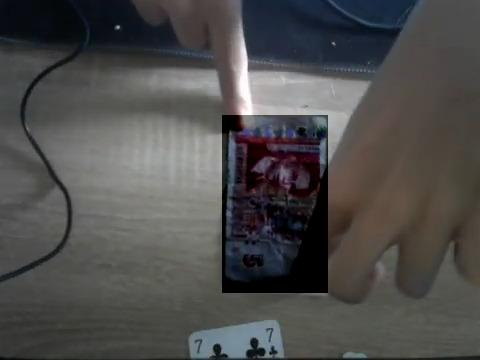5leva: (222, 115, 328, 293)
